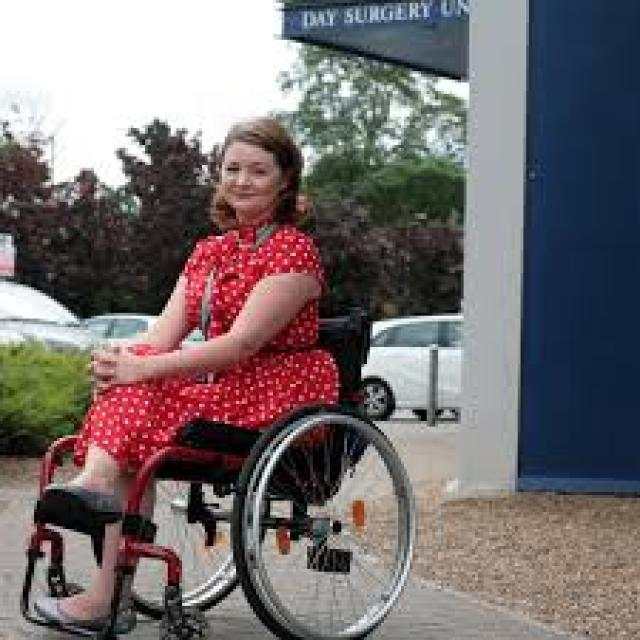wheelchairs: (88, 330, 481, 640)
